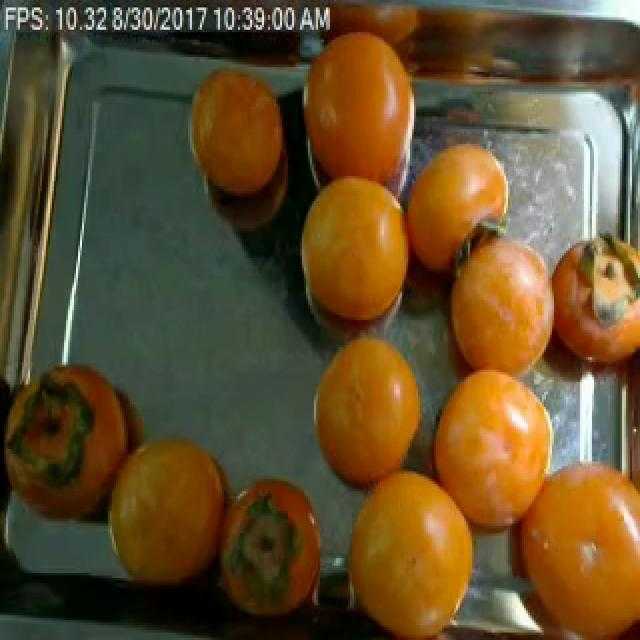Fruit: (332, 446, 492, 640), (88, 417, 244, 610), (282, 164, 428, 357), (296, 320, 430, 513), (174, 52, 294, 213)
